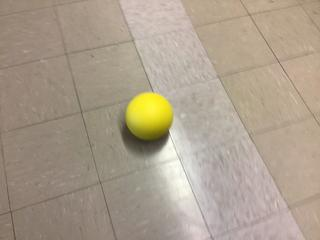power_cell: (123, 89, 176, 143)
